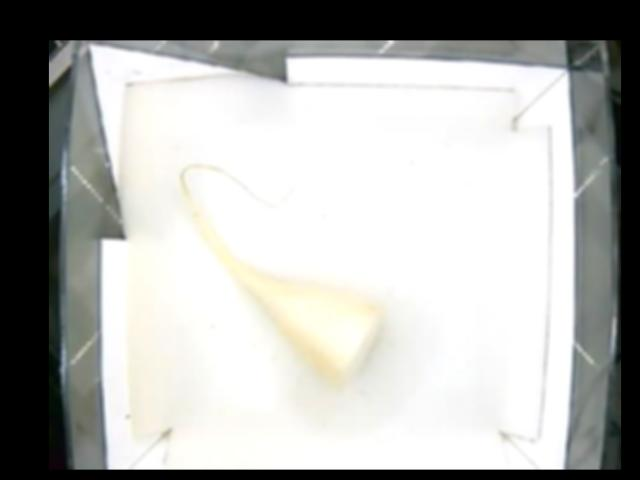Mooli: (232, 261, 380, 389)
